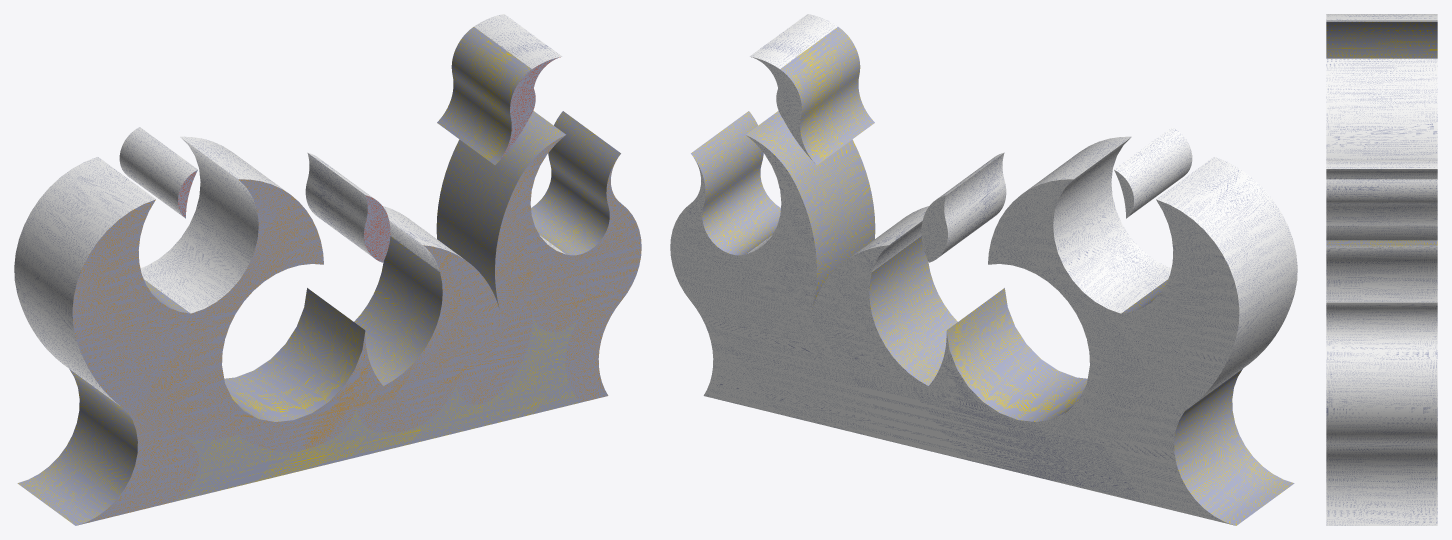
File: Fiah.obj
3 renders of one model, left to right at view 1: azimuth 30°, elevation 25°; view 2: azimuth 150°, elevation 25°; view 3: azimuth 270°, elevation 25°, orthographic. The views are drawn at different scales.
Parts seen in each view (by area): view 1: Mesh1 Model, Mesh3 Model, Mesh2 Model, Mesh4 Model; view 2: Mesh1 Model, Mesh3 Model, Mesh2 Model, Mesh4 Model; view 3: Mesh1 Model, Mesh3 Model, Mesh4 Model, Mesh2 Model.
Boxes of the visible parts, box(x1,y1,x2,y2) form: Mesh1 Model: box(14, 111, 641, 525); Mesh3 Model: box(437, 14, 561, 164); Mesh2 Model: box(305, 152, 390, 262); Mesh4 Model: box(119, 127, 197, 218); Mesh1 Model: box(670, 111, 1297, 525); Mesh3 Model: box(750, 14, 874, 164); Mesh2 Model: box(921, 152, 1006, 262); Mesh4 Model: box(1114, 127, 1192, 218); Mesh1 Model: box(1326, 14, 1437, 525); Mesh3 Model: box(1326, 159, 1437, 225); Mesh4 Model: box(1326, 21, 1437, 58); Mesh2 Model: box(1326, 225, 1437, 240).
Bounding box in the file's own units: 6.88 × 4.05 × 1.22.
